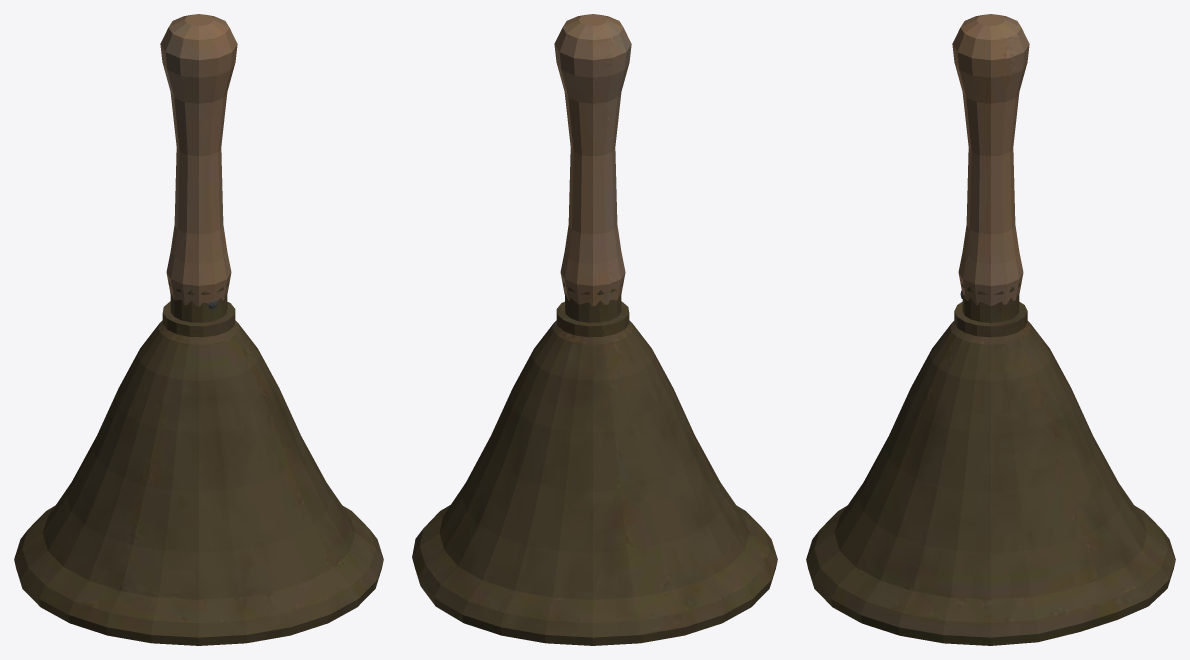
Rendered from S15_school_bell.glb.
The picture shows the model from 3 angles, left to right: view 1: azimuth 30°, elevation 25°; view 2: azimuth 150°, elevation 25°; view 3: azimuth 270°, elevation 25°; orthographic projection.
Parts seen in each view (by area): view 1: Cast brass bell; view 2: Cast brass bell; view 3: Cast brass bell.
Part boxes in pixels (left/top/right/bottom): Cast brass bell: left=14, top=14, right=383, bottom=645; Cast brass bell: left=412, top=14, right=777, bottom=645; Cast brass bell: left=806, top=14, right=1175, bottom=645.
Size of the model in its own units: 0.1832 by 0.3 by 0.1832.
Materials: 4 (4 with a texture image).
